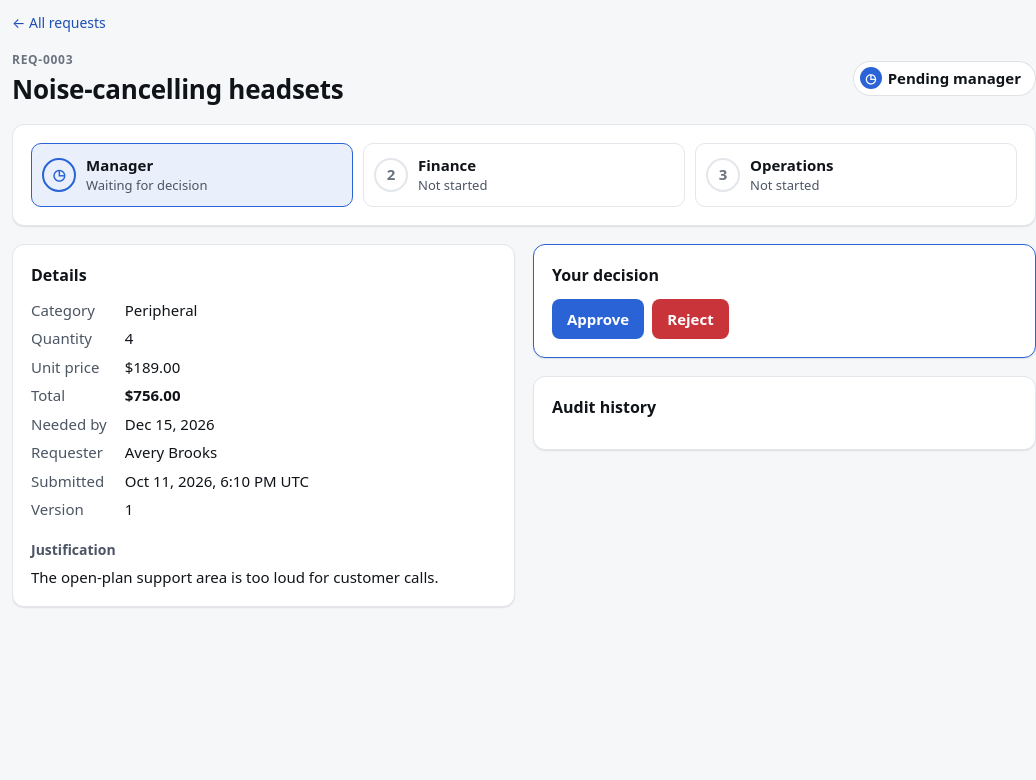
Test: RequestDetailPage › turns a 409 conflict into a warning with a reload button instead of overwriting
Click the button "Approve".
click(598, 319)  # box [552,298,644,339]
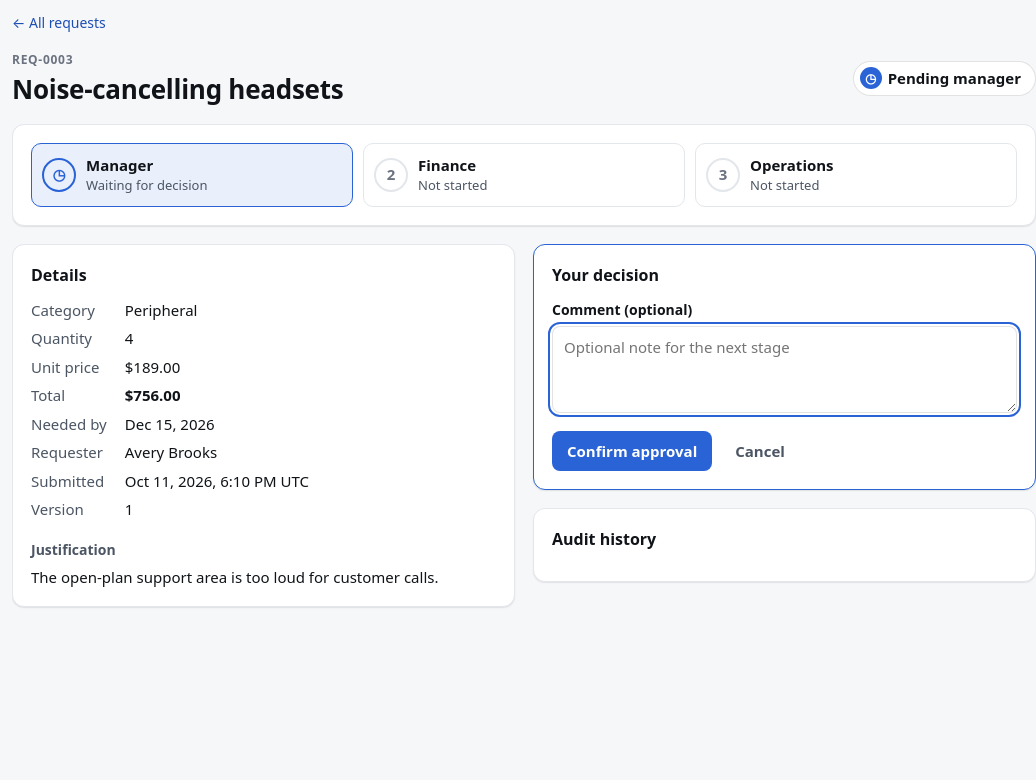
Click the button "Confirm approval".
click(632, 451)  # box [552,430,712,471]
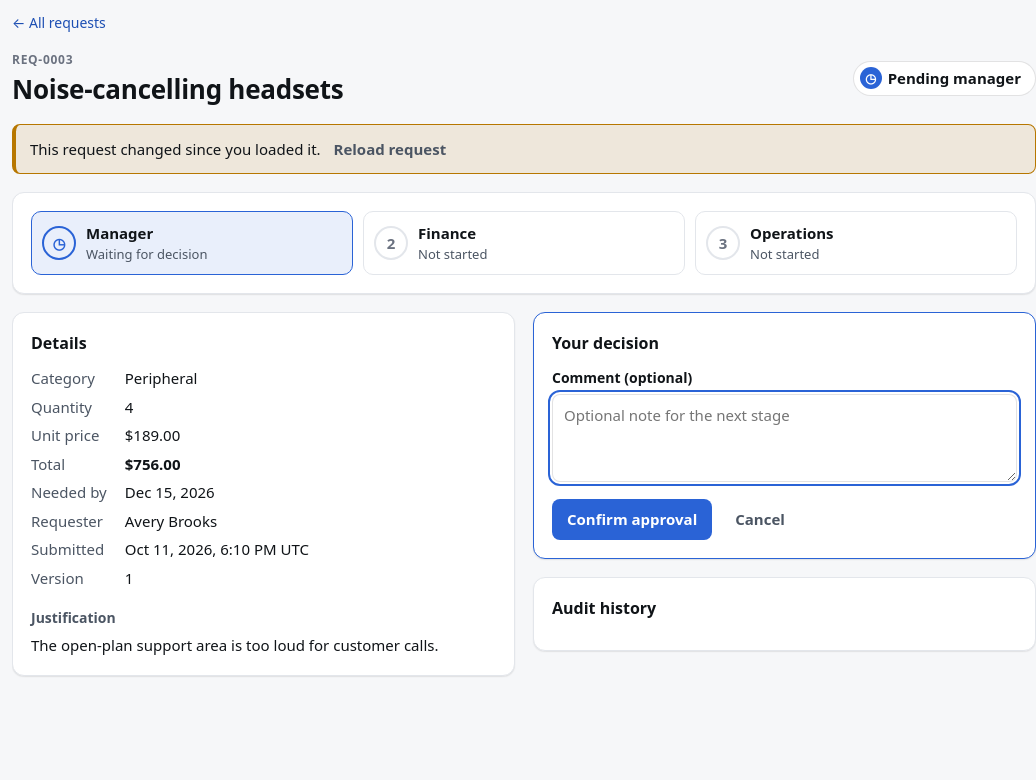
Expected: the text "This request changed since you loaded it. Reload request" is shown, [12,124,1035,174]
Expected: the button "Reload request" is shown, [324,134,455,163]
